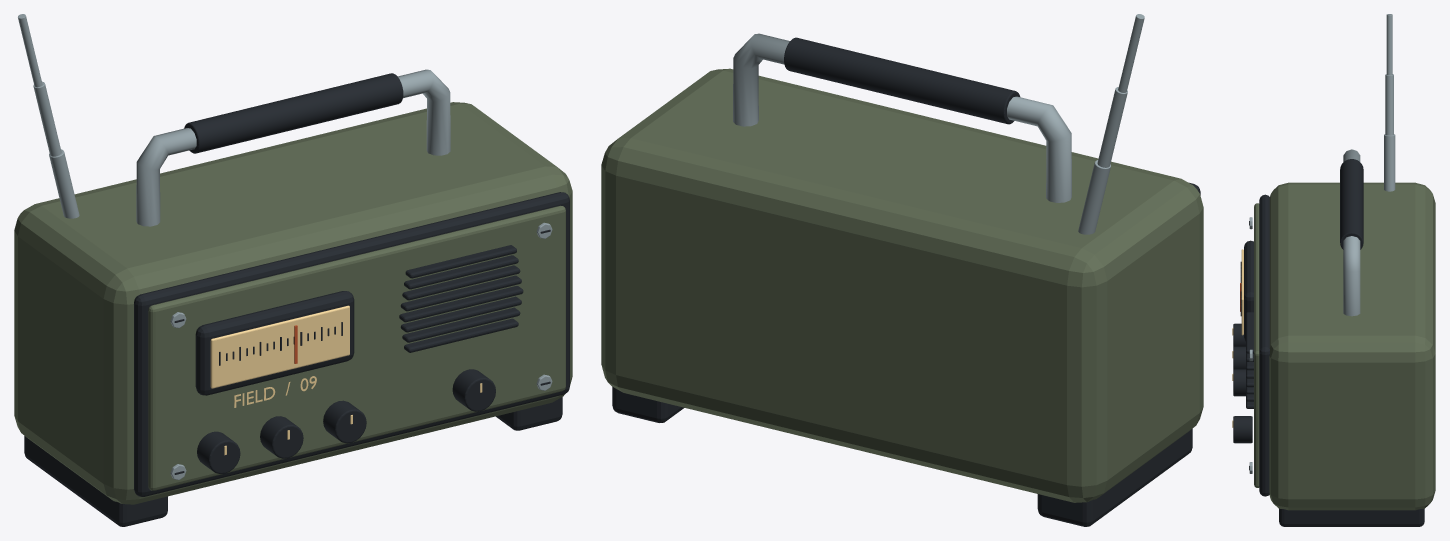
Rendered from prop.glb.
3 views of the same model, side by side, from view 1: azimuth 30°, elevation 25°; view 2: azimuth 150°, elevation 25°; view 3: azimuth 270°, elevation 25° (orthographic). The views are drawn at different scales.
Visible parts, largest first — view 1: Olive cast housing, Front plate, Front gasket, Sleeved grip, Dial glass, Grab handle, Dial bezel, Rubber runner, Rotary selector.003, Rotary selector.001, Rotary selector.002, Rotary selector (+12 smaller); view 2: Olive cast housing, Sleeved grip, Grab handle, Rubber runner, Rubber runner.001, Telescopic mast, Telescopic mast.001, Telescopic mast.002; view 3: Olive cast housing, Front gasket, Rubber runner.001, Sleeved grip, Front plate, Grab handle, Dial bezel, Telescopic mast, Rotary selector.003, Telescopic mast.001, Telescopic mast.002, Rotary selector.002 (+4 smaller).
Part boxes in pixels (x1,y1,x2,y2): Olive cast housing: (14,102,572,504); Front plate: (148,205,565,490); Front gasket: (134,192,569,496); Sleeved grip: (184,73,403,153); Dial glass: (210,305,349,388); Grab handle: (136,69,450,226); Dial bezel: (195,291,354,395); Rubber runner: (24,436,167,526); Rotary selector.003: (452,369,495,411); Rotary selector.001: (260,416,303,458); Rotary selector.002: (323,400,366,443); Rotary selector: (197,431,240,473); Olive cast housing: (601,68,1203,502); Sleeved grip: (784,37,1020,124); Grab handle: (733,33,1071,202); Rubber runner: (1037,429,1192,526); Rubber runner.001: (612,387,684,422); Telescopic mast: (1078,160,1110,234); Telescopic mast.001: (1097,87,1127,167); Telescopic mast.002: (1118,14,1144,92); Olive cast housing: (1269,182,1435,510); Front gasket: (1259,194,1269,496); Rubber runner.001: (1279,508,1424,526); Sleeved grip: (1340,159,1363,249); Front plate: (1254,203,1259,487); Grab handle: (1343,149,1360,316); Dial bezel: (1244,240,1253,341); Telescopic mast: (1384,134,1395,191); Rotary selector.003: (1233,416,1252,443); Telescopic mast.001: (1385,74,1393,135); Telescopic mast.002: (1386,14,1392,74); Rotary selector.002: (1233,369,1245,396).
Bounding box in the file's own units: 3.06 × 2.82 × 1.51.
